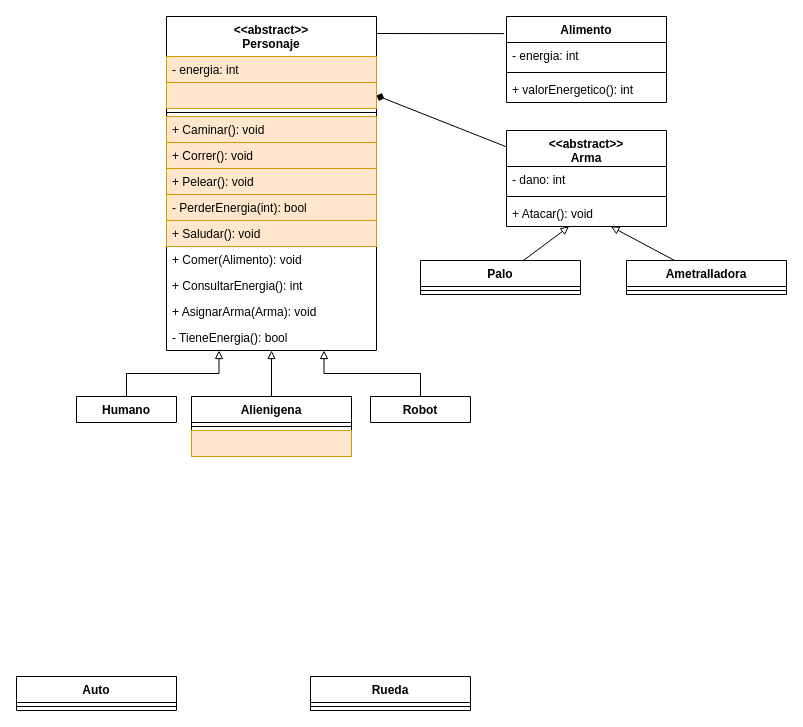
Some shapes in this 803 by 727 pixel diagram are drawn without their labels. The centre of each missing label's shape, as x and y in pixels:
"+ Alienigena(factorPlus: int)" goes at point 271,443.
"- arma: Arma" goes at point 271,95.
